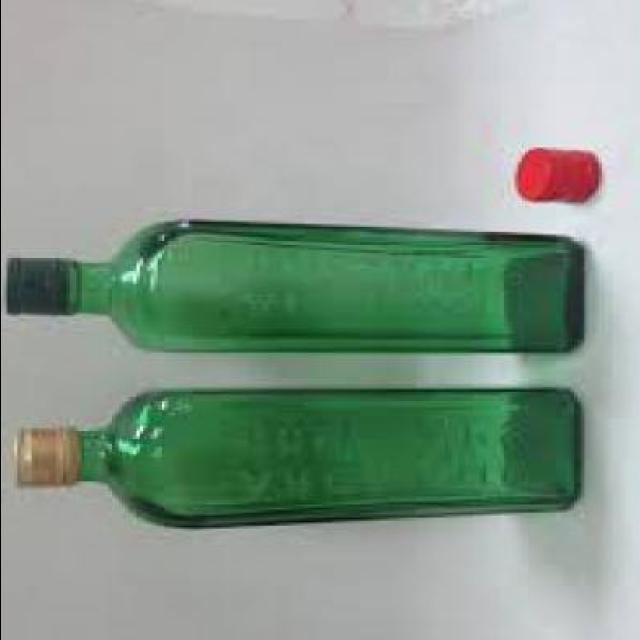kaca: (72, 384, 576, 526), (62, 218, 576, 352)
